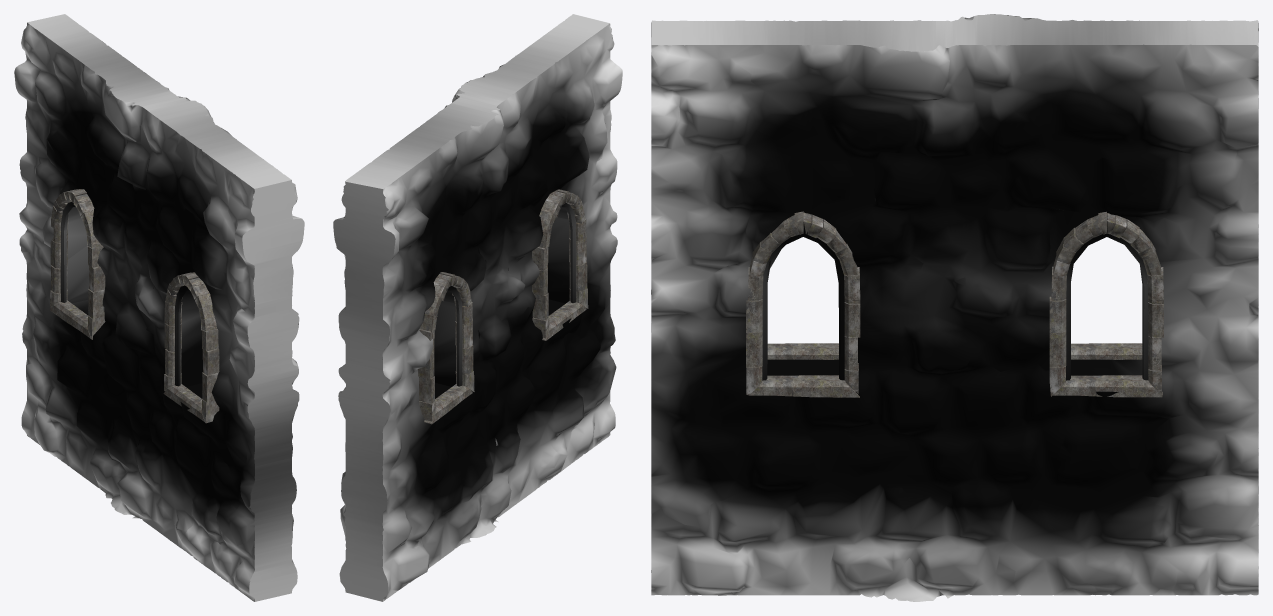
File: SM_CastleTower_Window_A_05.fbx
3 renders of one model, left to right at view 1: azimuth 30°, elevation 25°; view 2: azimuth 150°, elevation 25°; view 3: azimuth 270°, elevation 25°, orthographic. The views are drawn at different scales.
Parts seen in each view (by area): view 1: SM_CastleTower_Window_A_05_LOD0; view 2: SM_CastleTower_Window_A_05_LOD0; view 3: SM_CastleTower_Window_A_05_LOD0.
Part boxes in pixels (x1,y1,x2,y2): SM_CastleTower_Window_A_05_LOD0: [14, 14, 304, 601]; SM_CastleTower_Window_A_05_LOD0: [333, 14, 622, 601]; SM_CastleTower_Window_A_05_LOD0: [651, 14, 1258, 601].
Bounding box in the file's own units: 68.23 × 400 × 401.
